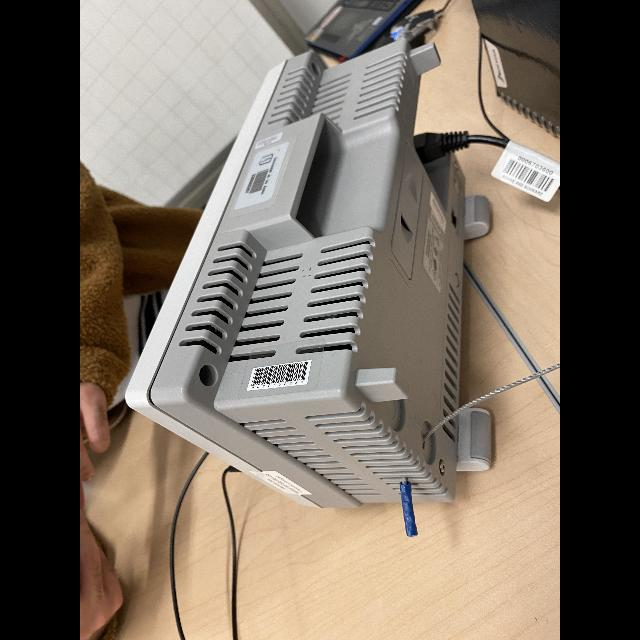Digital-Oscilloscope: (126, 39, 504, 508)
